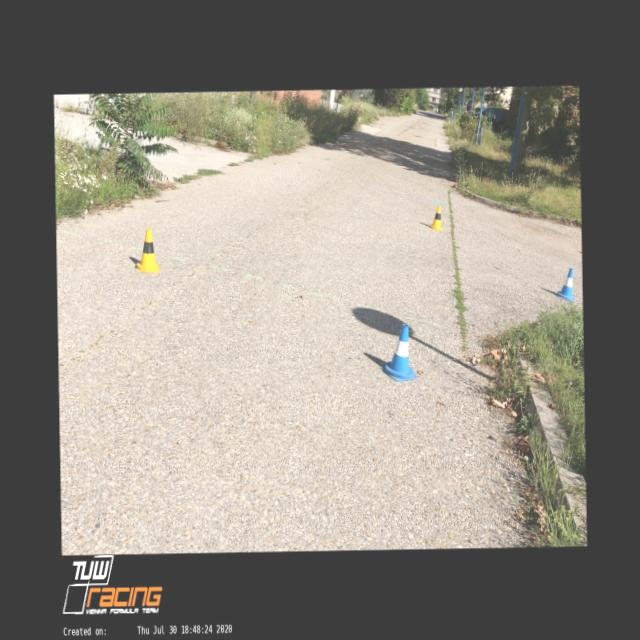blue_cone: (378, 322, 418, 382), (554, 267, 575, 301)
yellow_cone: (134, 228, 160, 274), (428, 206, 443, 230)
